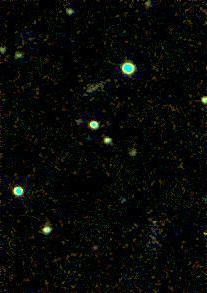star: (141, 204, 171, 234)
